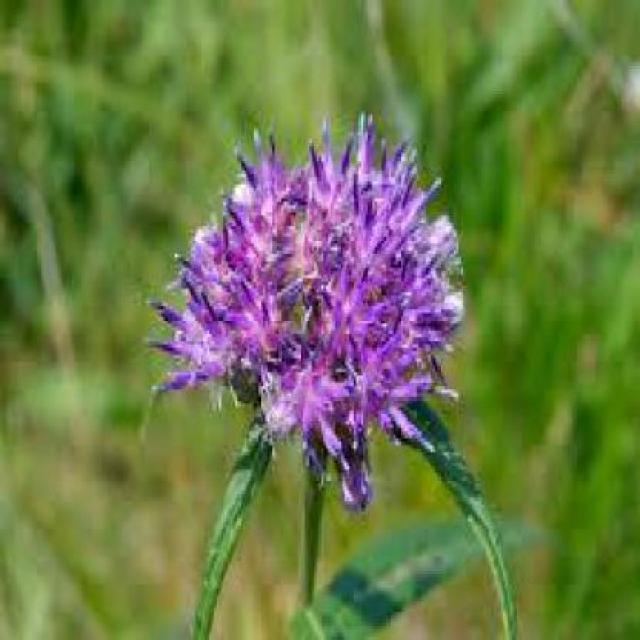flower: (149, 114, 473, 500)
